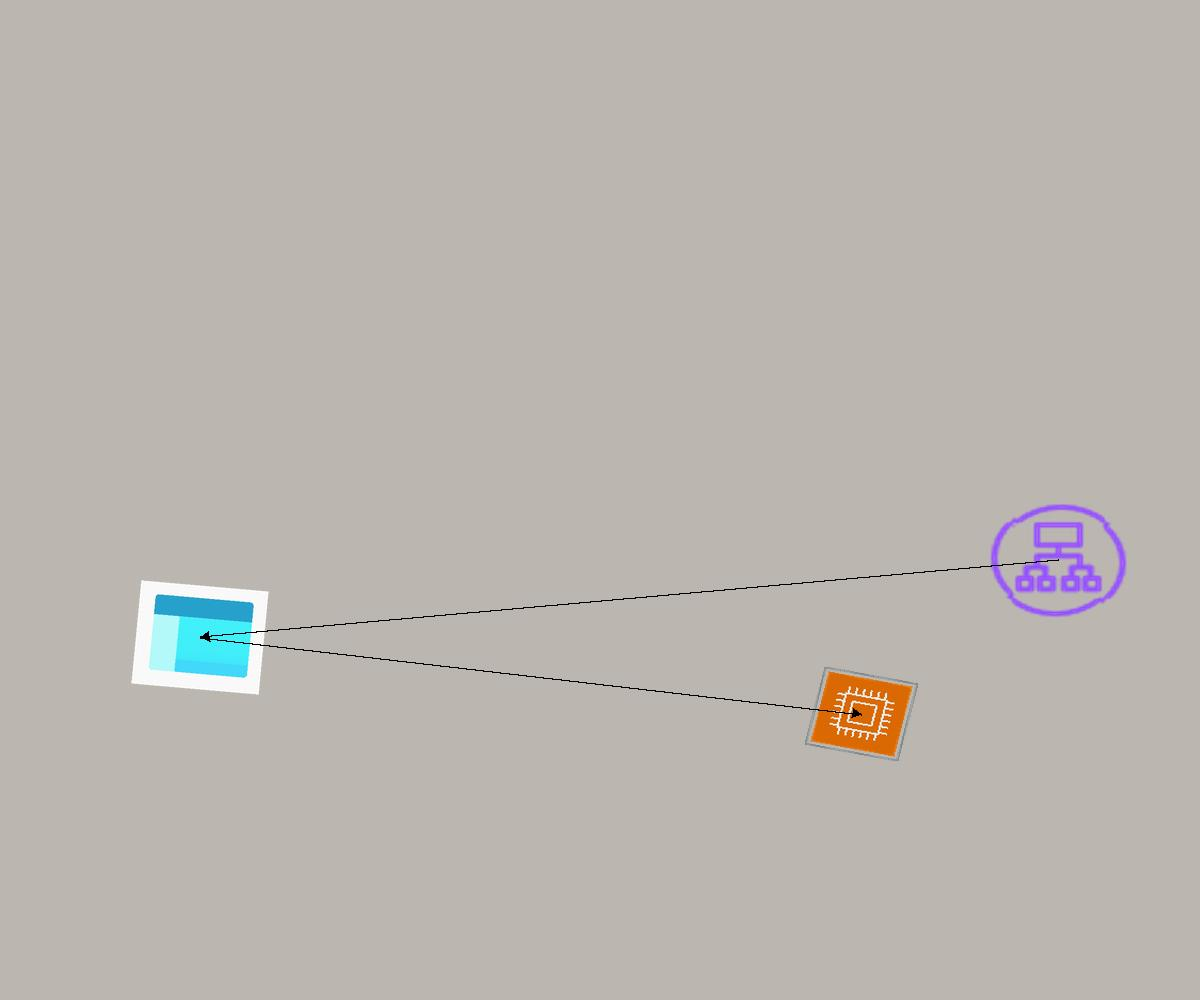AWS-Category_Compute: (804, 666, 919, 762)
AWS-Res_Elastic-Load-Balancing_Application-Load-Balancer: (982, 497, 1135, 624)
Azure_management-portal: (131, 580, 269, 695)
